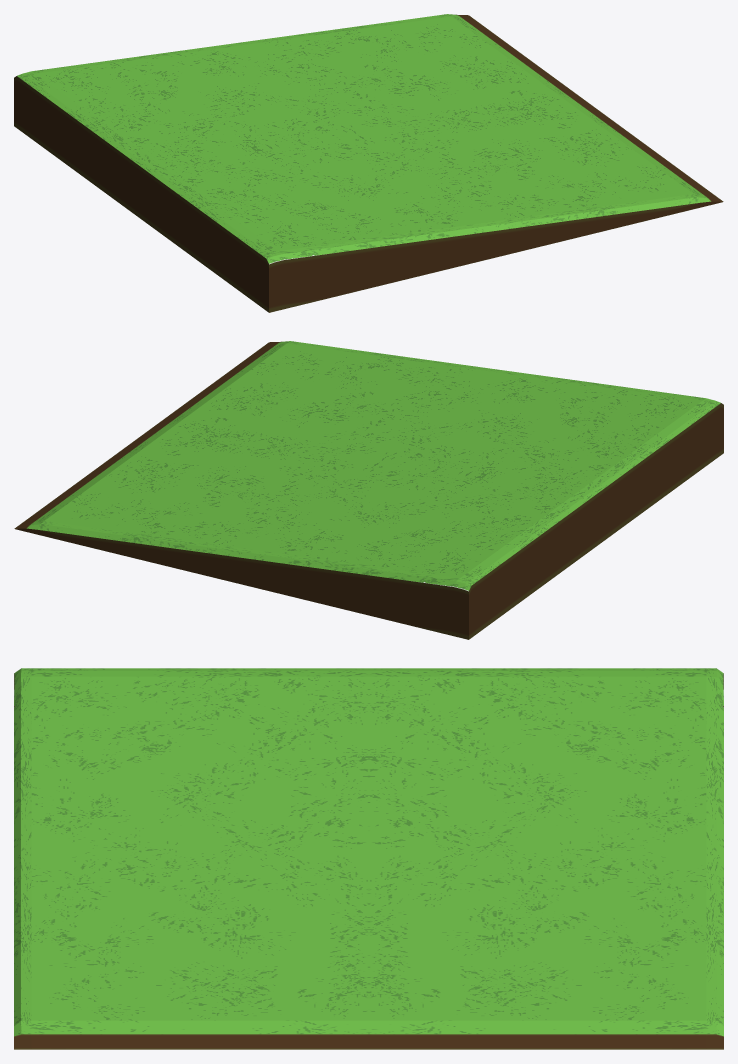
The model's file is GroundTile02.fbx.
The picture shows the model from 3 angles, top to bottom: view 1: azimuth 30°, elevation 25°; view 2: azimuth 150°, elevation 25°; view 3: azimuth 270°, elevation 25°; orthographic projection. The views are drawn at different scales.
Parts seen in each view (by area): view 1: GroundTile.001; view 2: GroundTile.001; view 3: GroundTile.001.
Boxes of the visible parts, x1,y1,x2,y2 form: GroundTile.001: (14,14,723,312); GroundTile.001: (14,341,723,639); GroundTile.001: (14,668,723,1049).
Size of the model in its own units: 102929 by 11563 by 100000.
